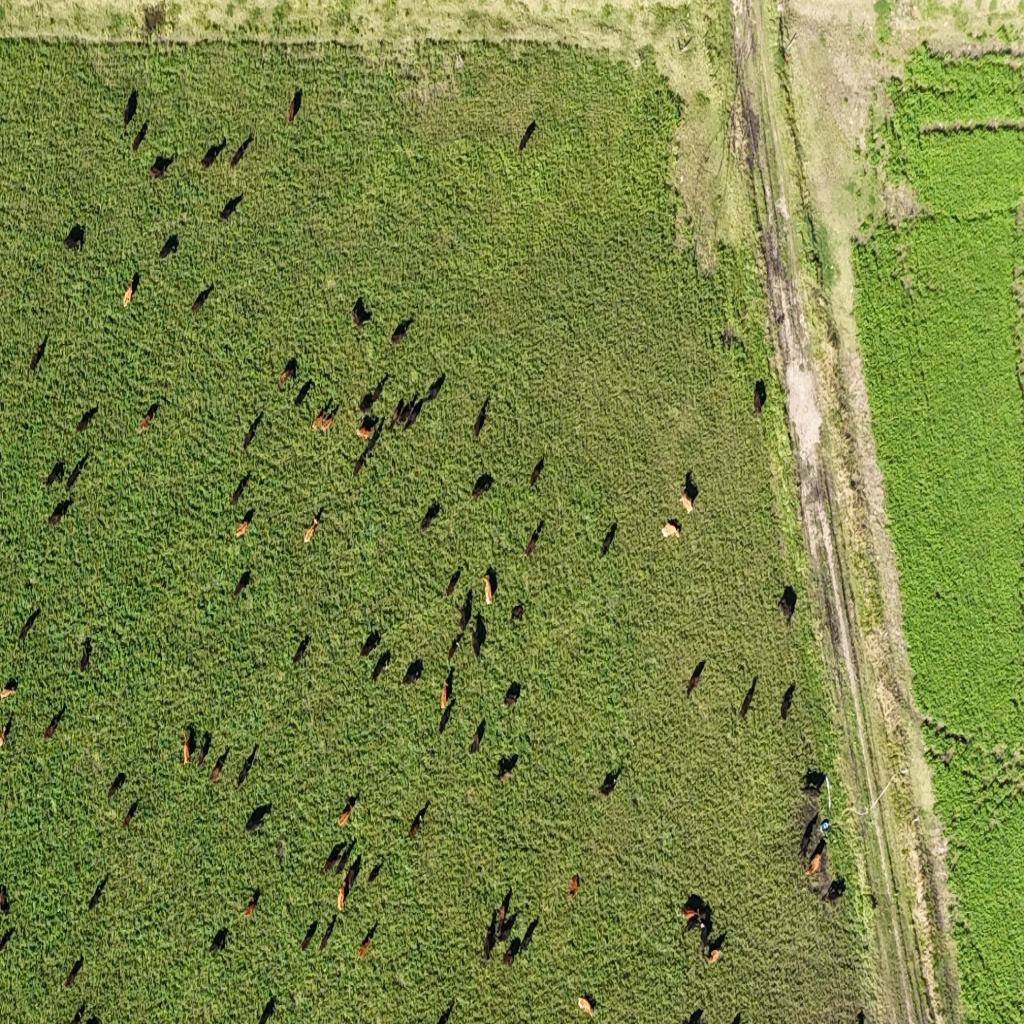cow: (354, 423, 382, 478), (360, 374, 388, 414), (798, 812, 819, 863), (341, 854, 361, 906), (236, 744, 258, 788), (244, 802, 272, 835), (803, 836, 826, 876), (87, 872, 109, 912), (686, 658, 706, 700), (242, 412, 263, 452), (356, 922, 377, 962), (681, 894, 708, 925), (66, 455, 88, 493), (472, 395, 490, 441), (778, 583, 797, 626), (190, 281, 214, 315), (44, 703, 66, 740), (200, 139, 226, 170), (229, 134, 252, 169), (316, 914, 336, 954), (680, 472, 698, 516), (739, 676, 757, 720), (62, 222, 86, 255), (322, 842, 345, 876), (408, 799, 428, 838), (18, 607, 40, 642), (496, 886, 512, 934), (29, 334, 49, 372), (335, 840, 353, 882), (230, 471, 250, 508), (350, 296, 372, 329), (519, 918, 538, 956), (525, 518, 543, 558), (219, 193, 243, 223), (209, 748, 229, 784), (404, 396, 425, 430), (598, 766, 620, 798), (423, 372, 445, 404), (472, 610, 486, 660), (390, 316, 414, 345), (48, 497, 72, 526), (496, 753, 519, 783), (696, 913, 711, 959), (43, 459, 65, 490), (388, 396, 408, 430), (148, 154, 174, 180), (801, 769, 828, 794), (482, 914, 496, 962), (370, 651, 391, 683), (355, 414, 379, 442), (470, 472, 493, 501), (76, 404, 99, 433), (65, 954, 84, 989), (459, 587, 473, 634), (304, 508, 322, 544), (337, 794, 357, 826), (123, 88, 138, 130), (402, 657, 423, 687), (195, 730, 211, 769), (421, 500, 441, 531), (292, 378, 312, 409), (278, 357, 298, 388), (312, 405, 334, 433), (121, 274, 139, 308), (292, 632, 310, 666), (300, 919, 318, 953), (138, 401, 159, 430), (600, 520, 616, 558), (501, 935, 520, 967), (518, 120, 536, 153), (469, 719, 485, 756), (158, 233, 179, 261), (780, 684, 795, 723), (360, 630, 380, 659), (438, 700, 454, 736), (232, 570, 250, 602), (242, 888, 260, 920), (824, 876, 846, 902), (209, 926, 228, 956), (288, 87, 302, 127), (528, 454, 544, 489), (484, 566, 498, 606), (441, 666, 454, 708), (107, 772, 126, 800), (182, 724, 194, 768), (258, 993, 275, 1024), (132, 121, 148, 153), (122, 798, 138, 830), (503, 680, 521, 708), (445, 568, 461, 599), (447, 633, 462, 666), (337, 869, 349, 910), (662, 518, 683, 541), (352, 451, 368, 481), (0, 716, 14, 750), (720, 325, 738, 351), (0, 677, 19, 701), (436, 998, 453, 1024), (80, 638, 92, 672), (0, 924, 14, 953), (578, 995, 594, 1019), (753, 384, 764, 416), (236, 516, 252, 538), (706, 946, 723, 966), (368, 861, 382, 885), (0, 884, 11, 914), (510, 602, 524, 624), (800, 681, 811, 709), (70, 1003, 84, 1024), (686, 1007, 704, 1023), (940, 749, 954, 769), (952, 730, 969, 746), (569, 874, 579, 900), (84, 1010, 102, 1024), (277, 838, 285, 863), (869, 892, 878, 911), (730, 1010, 742, 1024), (855, 1009, 866, 1024), (936, 590, 942, 600)
